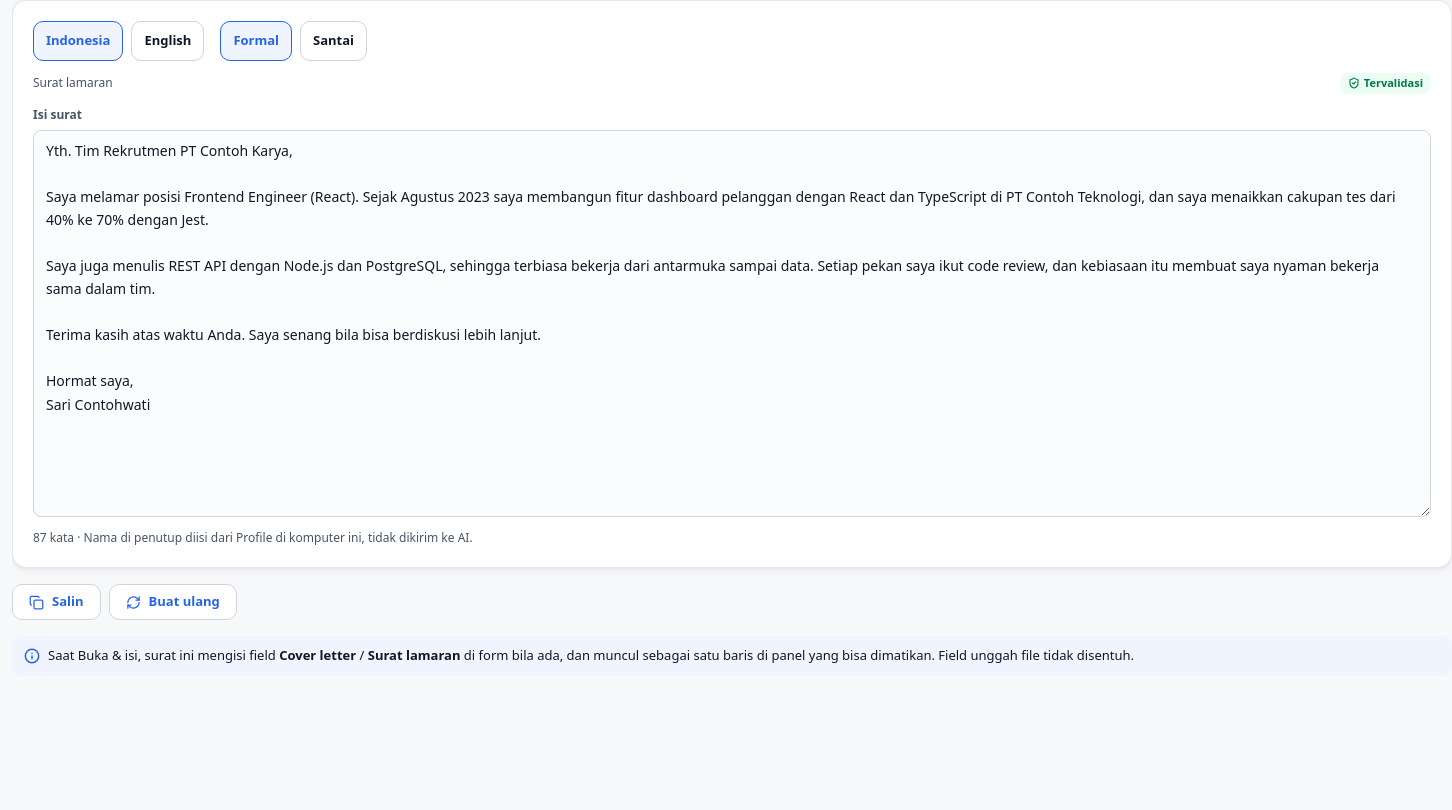
Scenario: LetterTab: with a letter › copies the letter and says whether it worked
Click the button "Salin" at [56, 602], box [12,584,100,620]
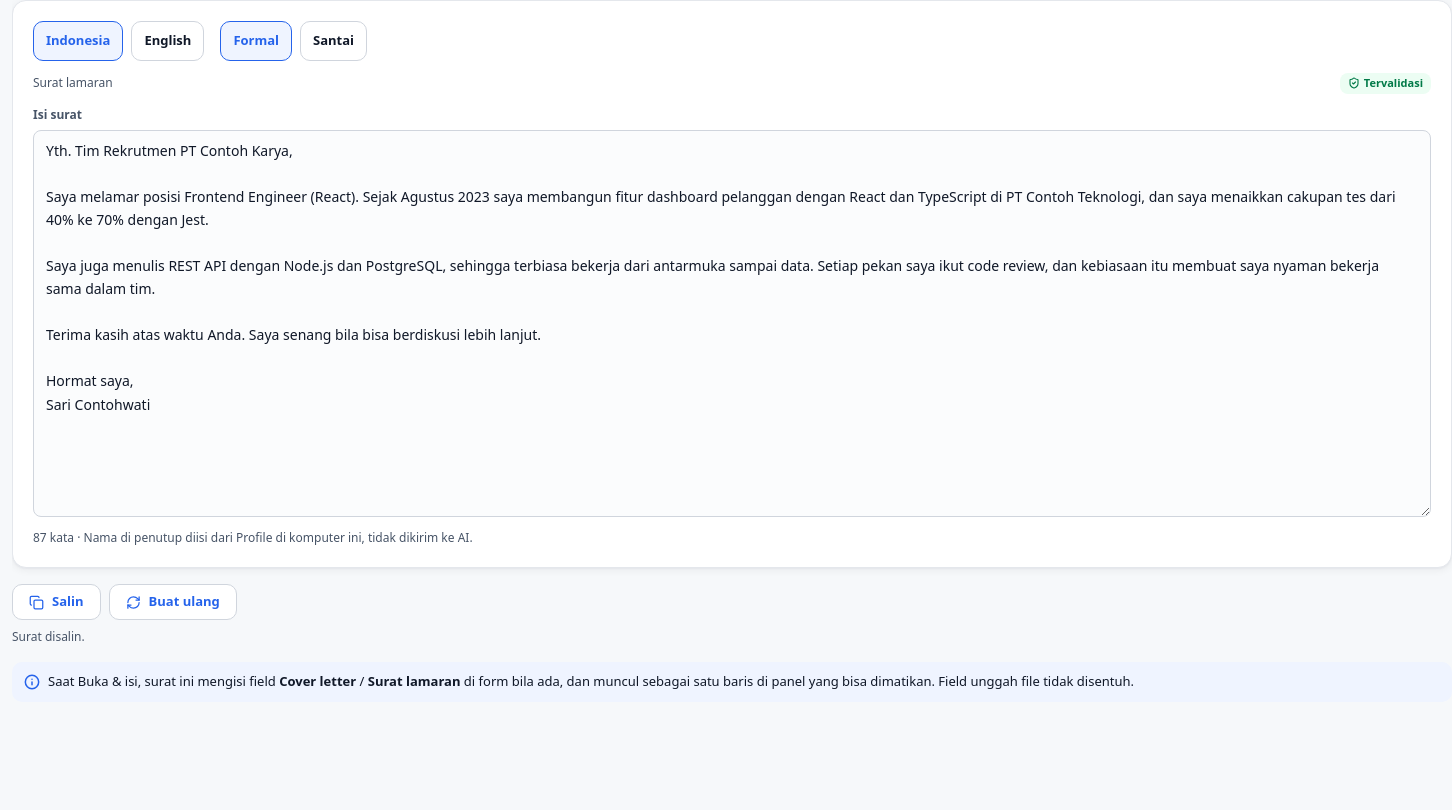
Expected: the text "Surat disalin." is shown, [12,628,85,645]
